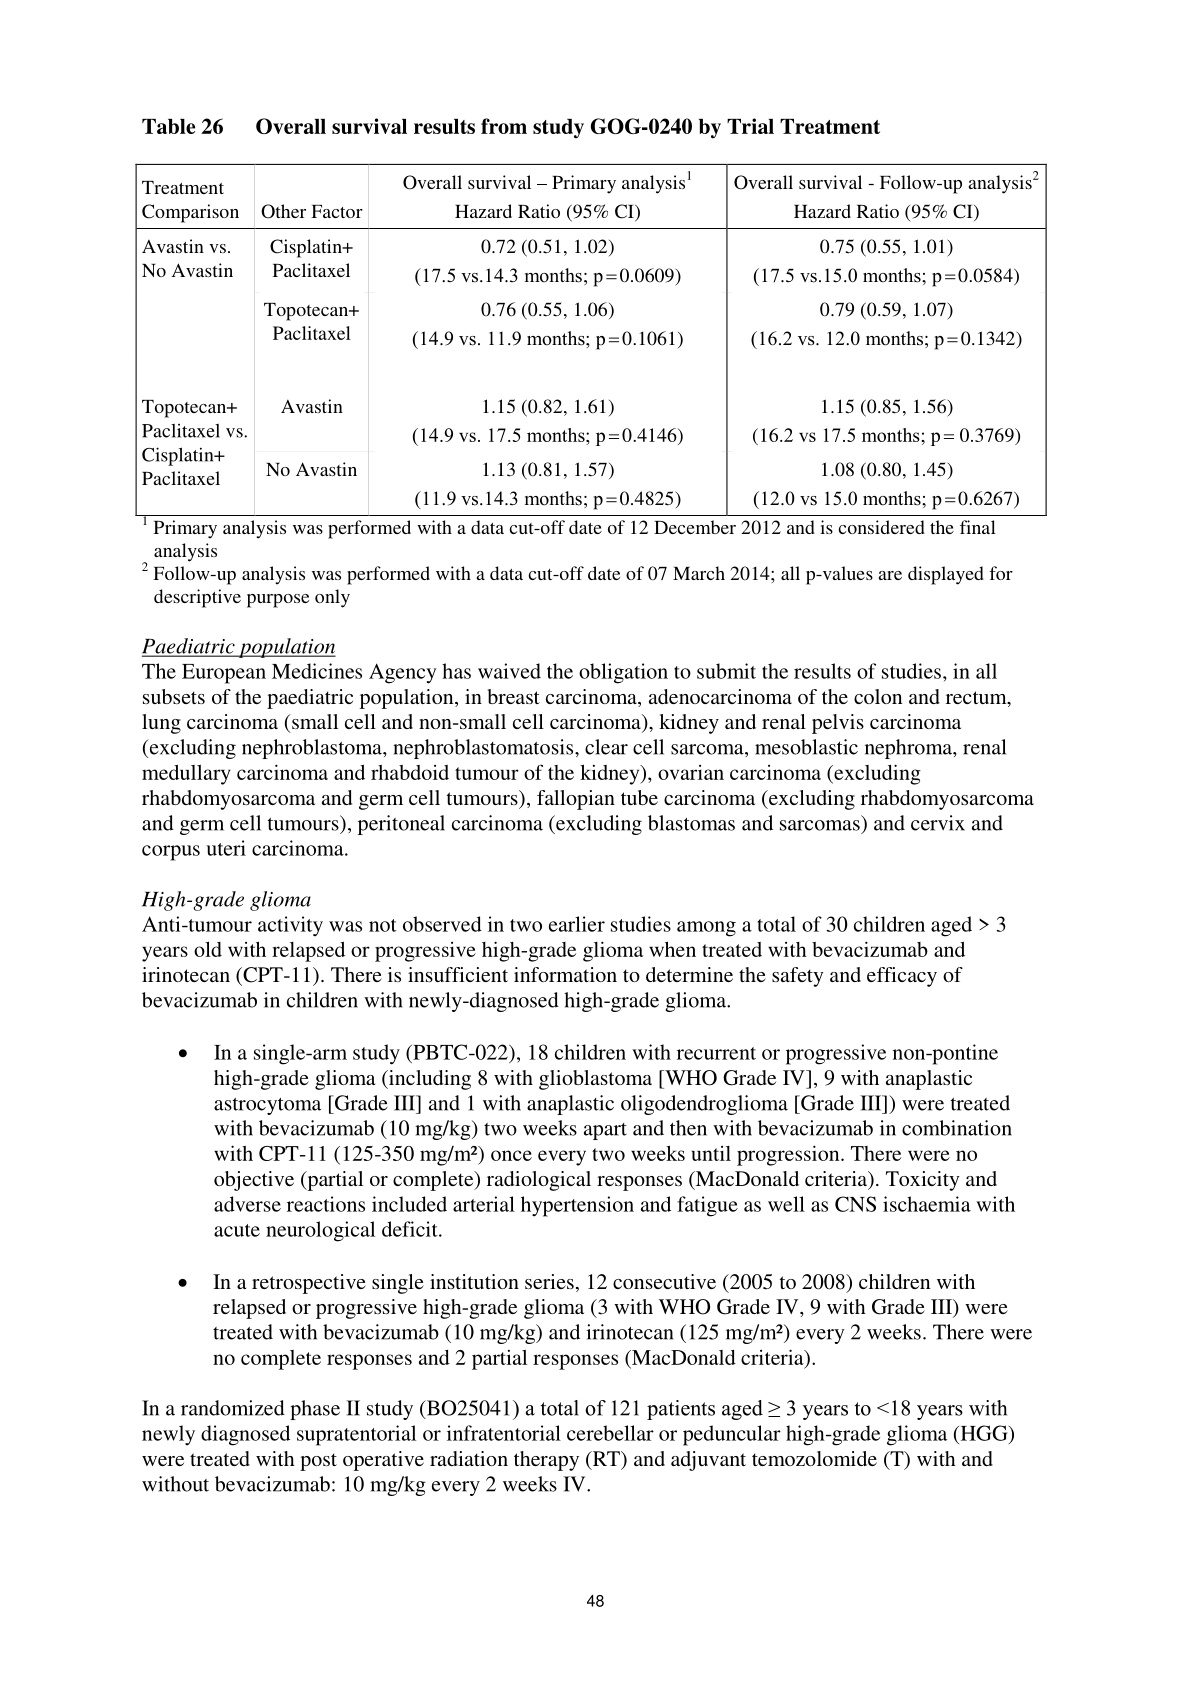partial_lined: (134, 162, 1048, 517)
